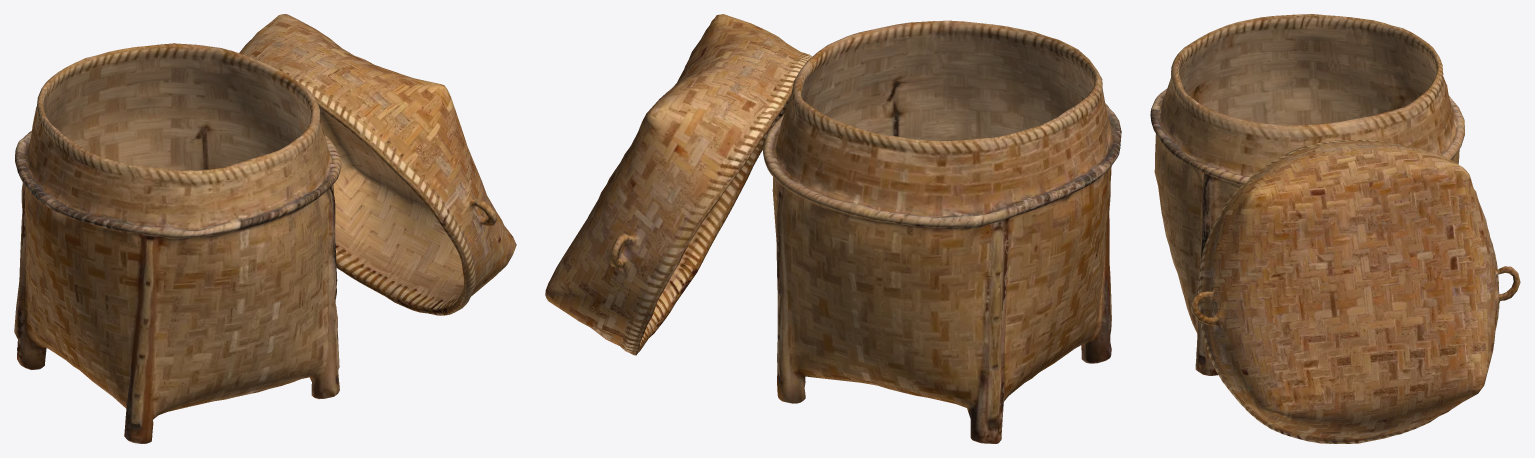
Rendered from wicker_basket_02.glb.
3 views of the same model, side by side, from view 1: azimuth 30°, elevation 25°; view 2: azimuth 150°, elevation 25°; view 3: azimuth 270°, elevation 25° (orthographic). The views are drawn at different scales.
Parts seen in each view (by area): view 1: wicker_basket_02_base; view 2: wicker_basket_02_base; view 3: wicker_basket_02_base.
Boxes of the visible parts, x1,y1,x2,y2 form: wicker_basket_02_base: [14, 14, 516, 443]; wicker_basket_02_base: [545, 14, 1121, 443]; wicker_basket_02_base: [1150, 14, 1520, 443].
Bounding box in the file's own units: 0.3469 × 0.2005 × 0.2545.
Materials: 1 (1 with a texture image).
